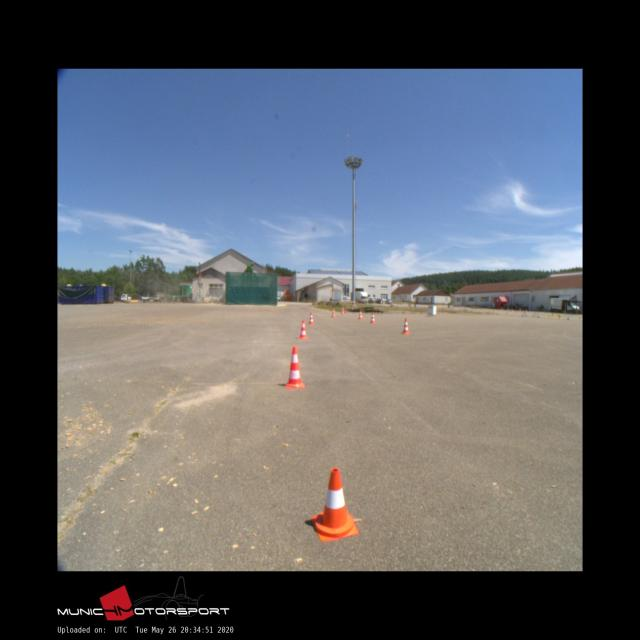large_orange_cone: (284, 347, 304, 388), (298, 320, 308, 339), (402, 318, 409, 334), (370, 312, 376, 323), (308, 312, 313, 324), (358, 309, 363, 320), (331, 308, 336, 318), (341, 307, 345, 315)
orange_cone: (312, 468, 358, 541)
